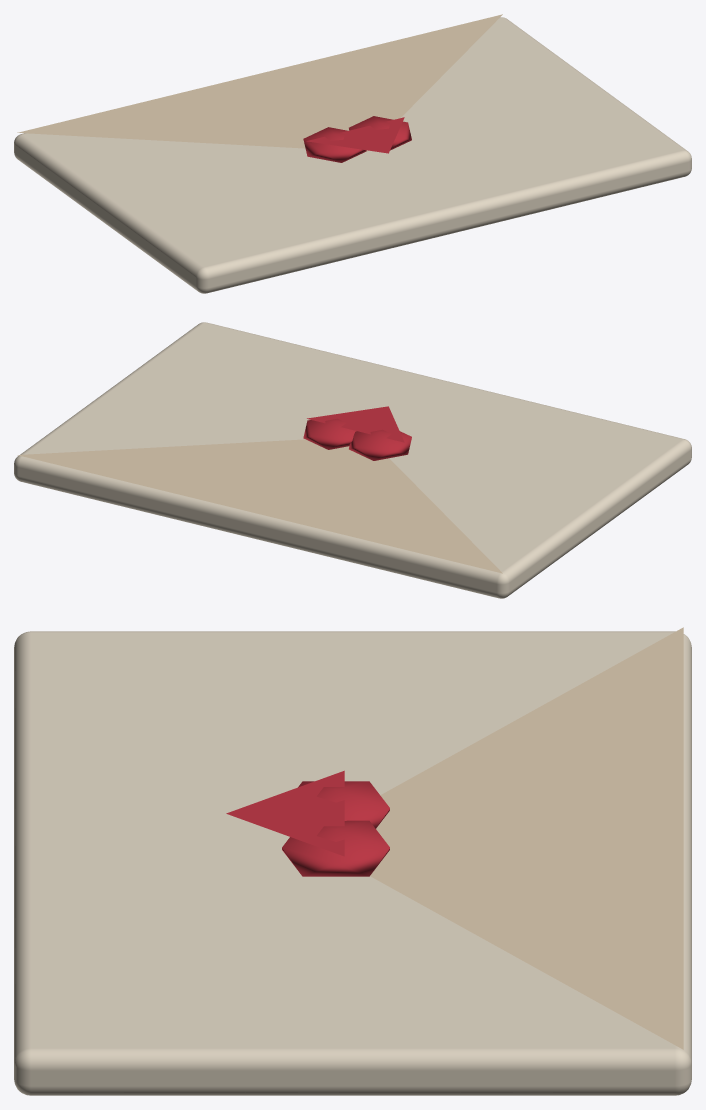
Rendered from item_ui_invite.glb.
3 renders of one model, top to bottom at view 1: azimuth 30°, elevation 25°; view 2: azimuth 150°, elevation 25°; view 3: azimuth 270°, elevation 25°, orthographic. The views are drawn at different scales.
Parts seen in each view (by area): view 1: item_ui_invite_main; view 2: item_ui_invite_main; view 3: item_ui_invite_main.
Part boxes in pixels (<box>): item_ui_invite_main: <box>14,14,691,293</box>; item_ui_invite_main: <box>14,322,691,598</box>; item_ui_invite_main: <box>14,627,691,1095</box>.
Bounding box in the file's own units: 0.24 × 0.02 × 0.16.
